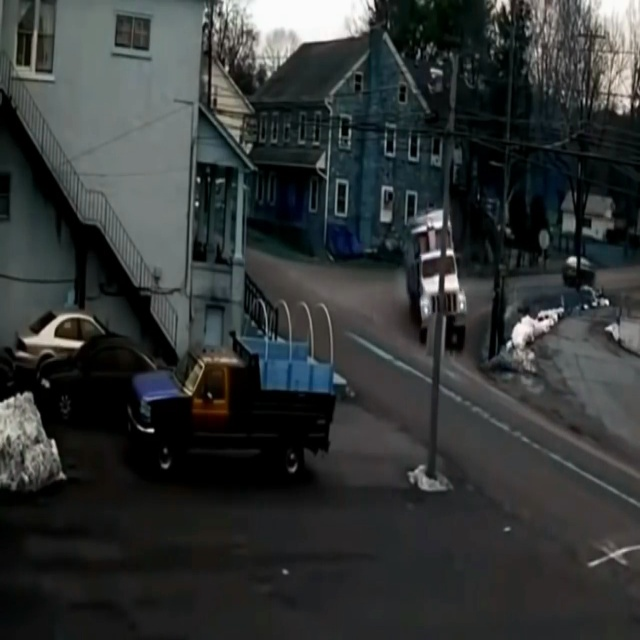acc: (385, 203, 484, 360)
